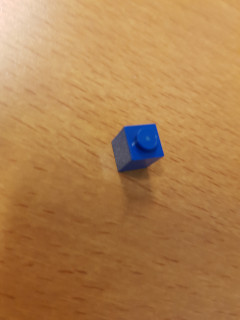1x1 blue: (110, 122, 166, 174)
